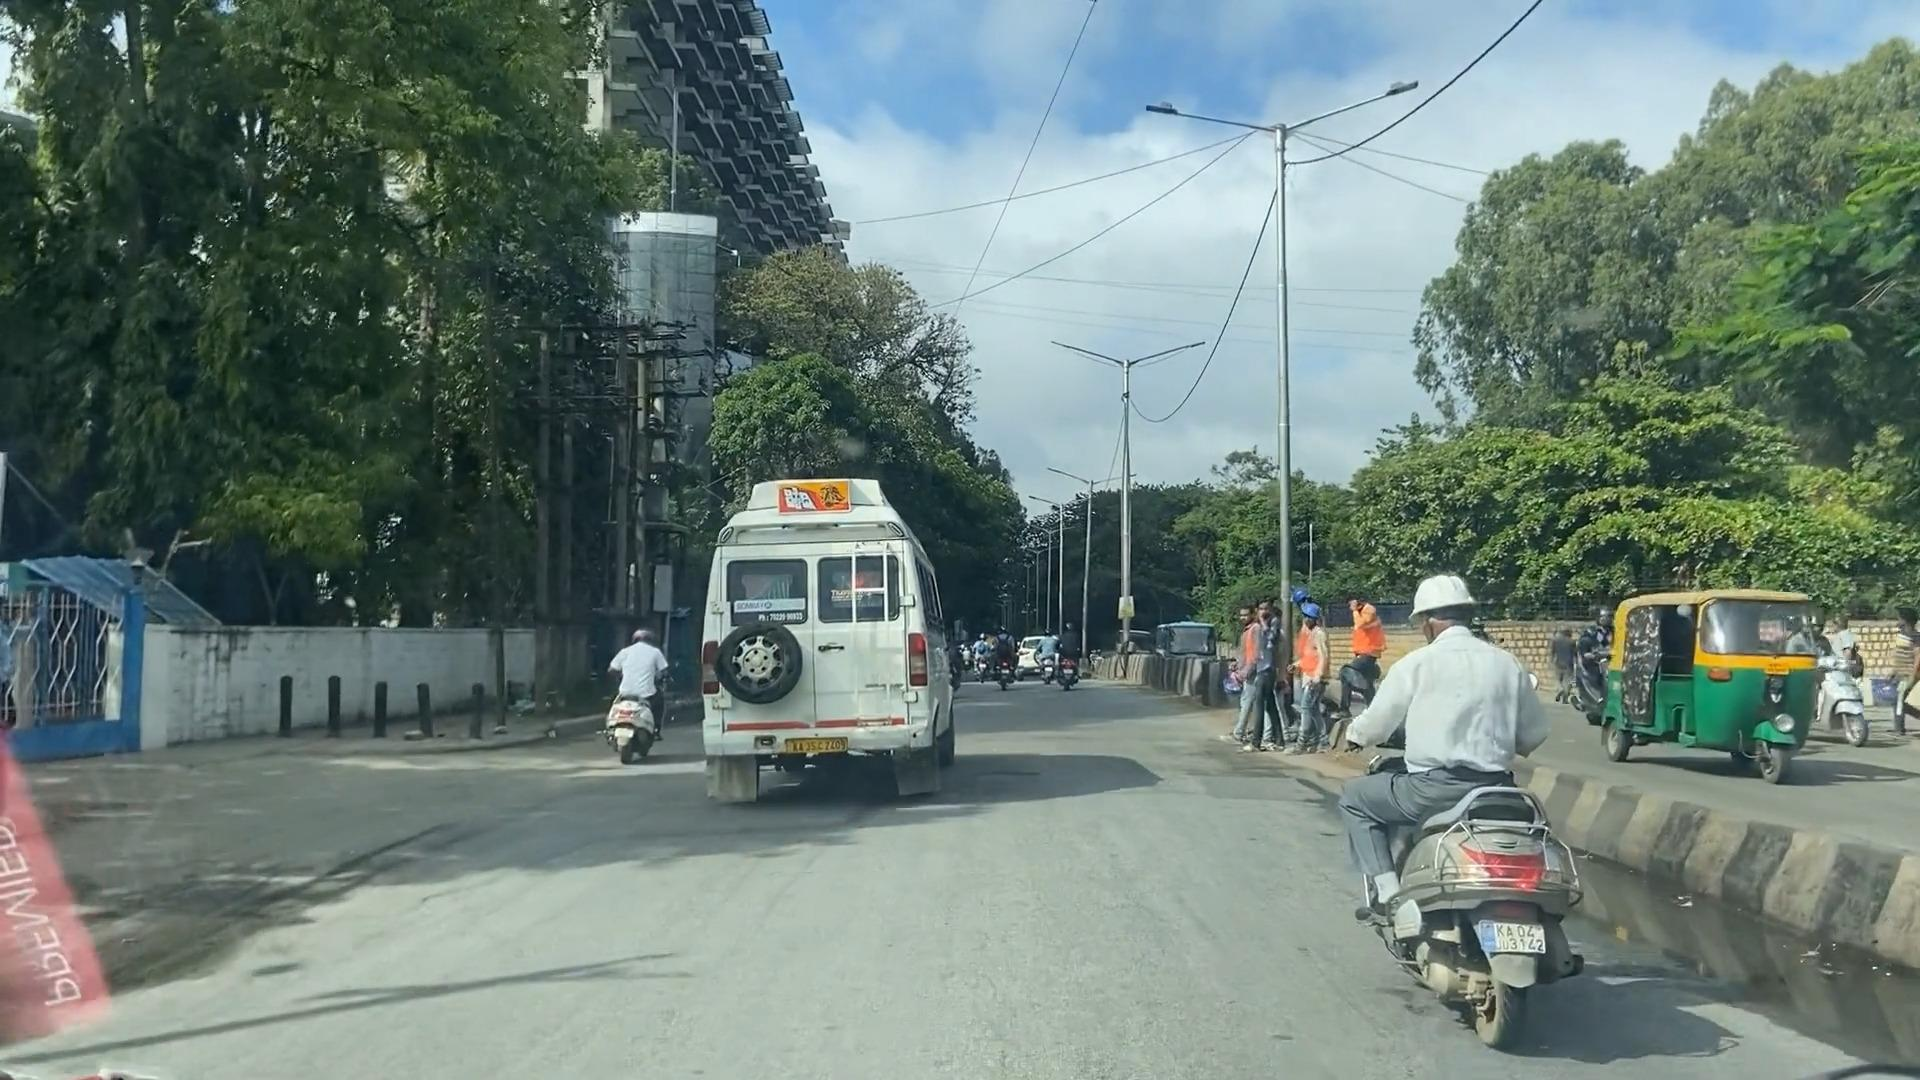HMV: (703, 480, 992, 824)
LMV: (1313, 571, 1597, 1038)
